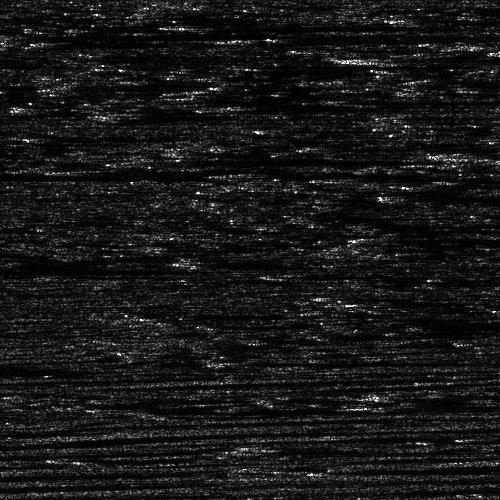rock: (203, 35, 286, 42), (0, 26, 31, 41), (283, 97, 346, 104), (364, 191, 417, 198), (218, 171, 291, 176), (148, 20, 211, 25), (153, 260, 216, 265), (125, 158, 178, 163), (359, 55, 390, 60), (115, 113, 156, 116)
shadow: (0, 165, 497, 184), (0, 26, 240, 41), (245, 35, 445, 42), (180, 20, 440, 25), (255, 171, 500, 176), (0, 163, 230, 168), (152, 158, 343, 163), (315, 97, 448, 104), (0, 155, 70, 168), (391, 191, 500, 198), (375, 55, 443, 60), (185, 260, 248, 265), (136, 113, 199, 116)
